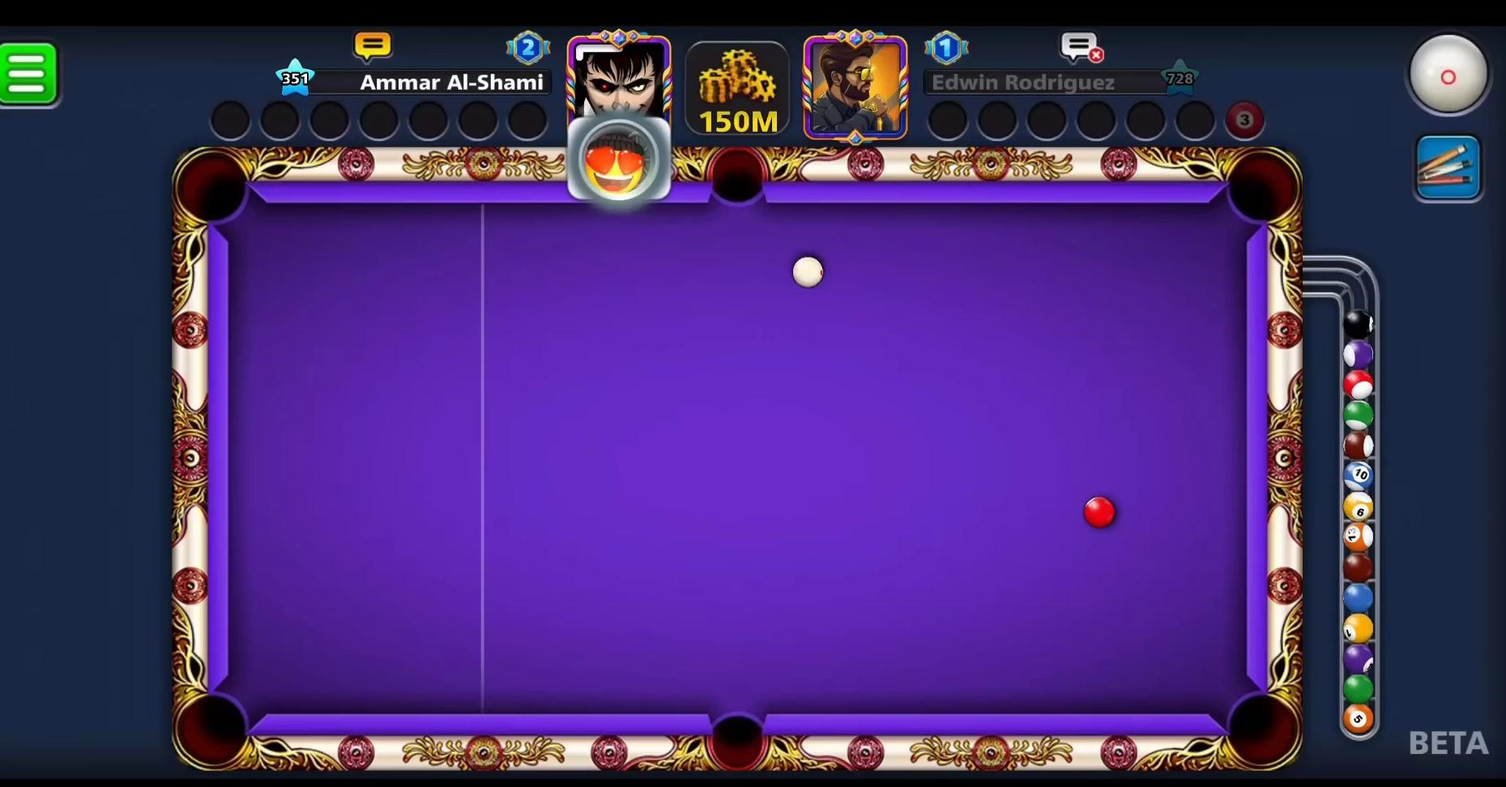Ball: (1080, 488, 1120, 534)
Hole: (1213, 679, 1308, 778), (1214, 141, 1306, 232), (167, 143, 260, 232), (172, 687, 259, 776), (693, 140, 780, 219), (699, 698, 779, 777)
Play_Area: (225, 203, 1245, 721)
Spin: (1401, 24, 1504, 125)
White: (783, 252, 834, 296)
